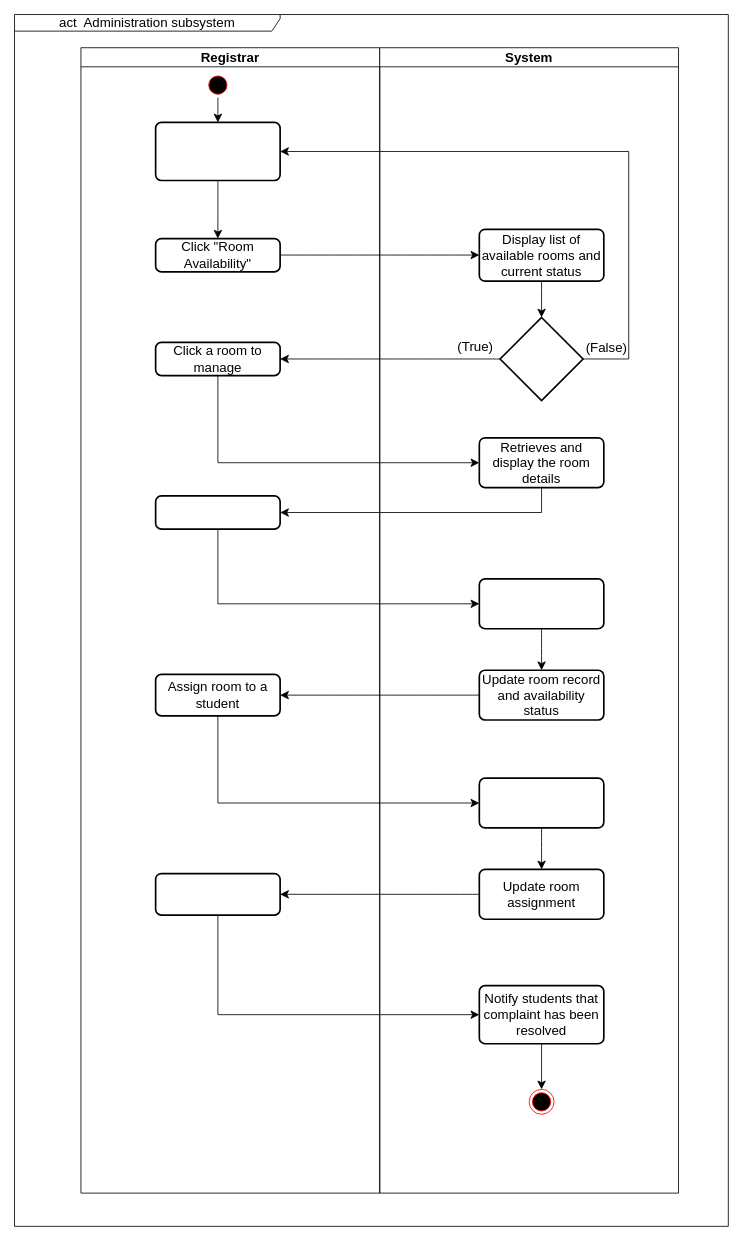
This 743x1241 diagram has some shape labels left out. Here are the shapes that lost their labels. From the top down, the centre of each, then its label:
(217,151): Go to "Admin Portal Room Management" page
(541,358): Proceed ?
(217,512): Update room details and availability
(541,603): Validate room availability information
(541,802): Validate student information
(217,893): Confirm the room assignment
